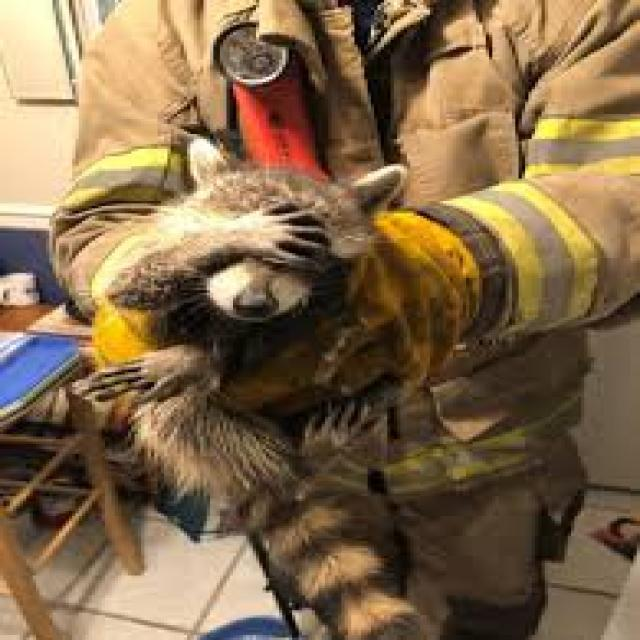Raccoon: (96, 156, 439, 627)
